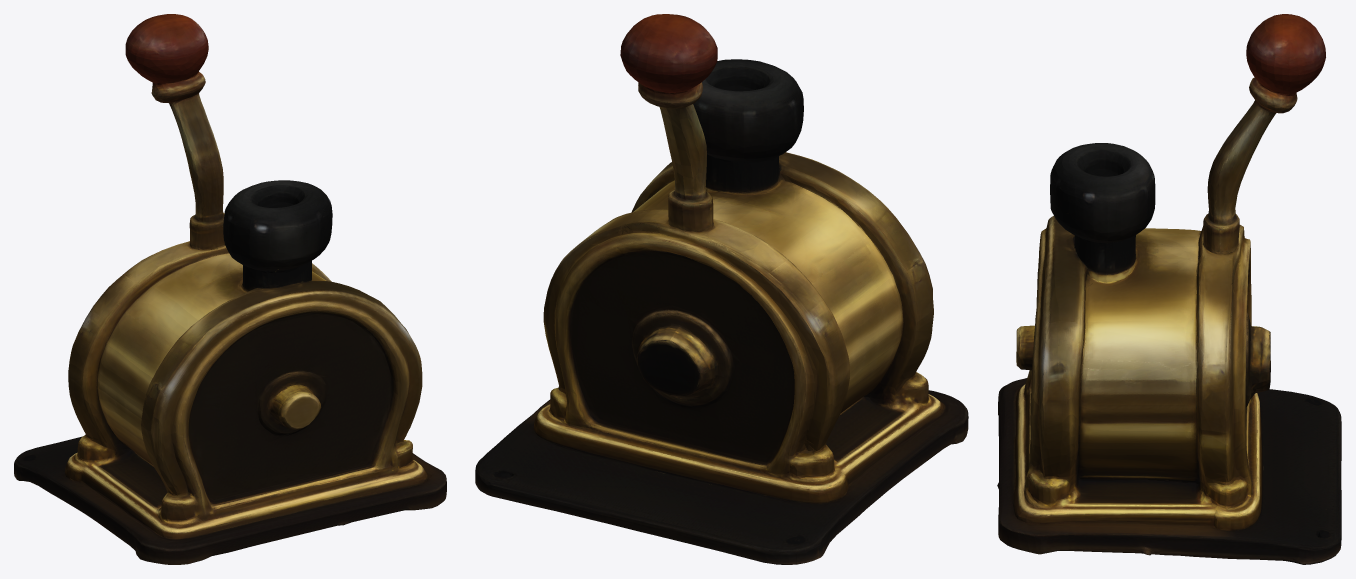
The model's file is boat_shifter.glb.
The picture shows the model from 3 angles, left to right: view 1: azimuth 30°, elevation 25°; view 2: azimuth 150°, elevation 25°; view 3: azimuth 270°, elevation 25°; orthographic projection. The views are drawn at different scales.
Parts seen in each view (by area): view 1: world; view 2: world; view 3: world.
Boxes of the visible parts, x1,y1,x2,y2 form: world: [14, 14, 446, 564]; world: [475, 14, 968, 564]; world: [997, 14, 1341, 564].
Size of the model in its own units: 0.7291 by 0.9988 by 0.6746.
1 material, 1 textured.
